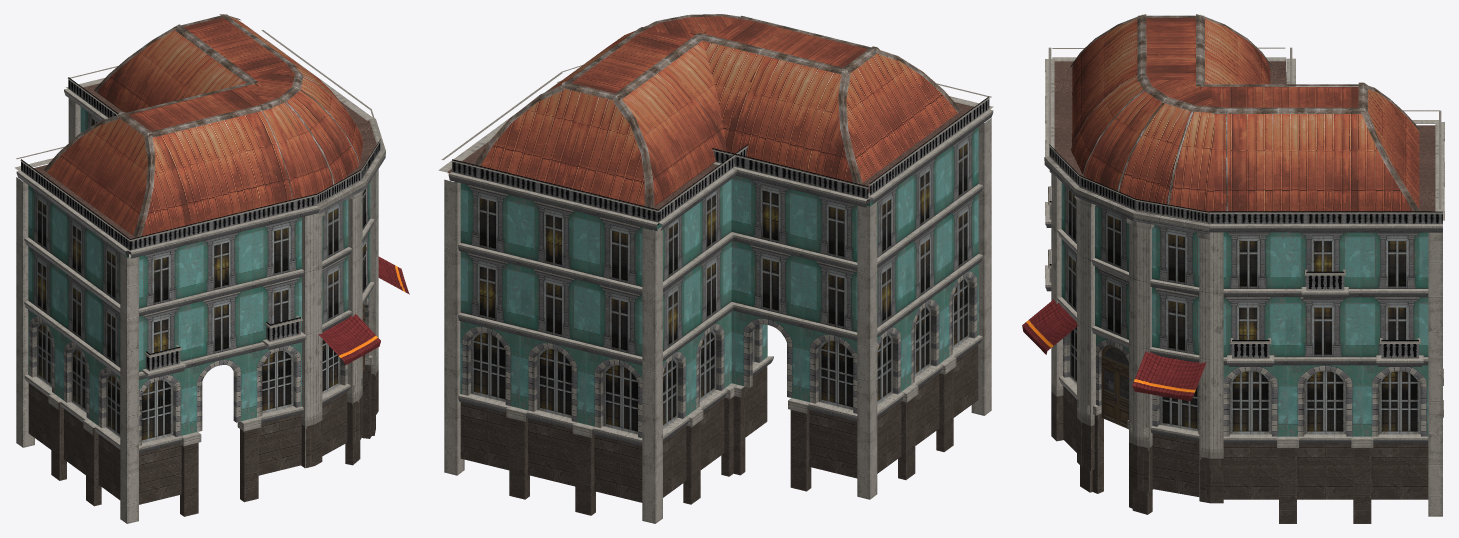
Rendered from tier2_city_corner.gltf.
3 renders of one model, left to right at view 1: azimuth 30°, elevation 25°; view 2: azimuth 150°, elevation 25°; view 3: azimuth 270°, elevation 25°, orthographic. The views are drawn at different scales.
Visible parts, largest first — view 1: ground-wall.001; view 2: ground-wall.001; view 3: ground-wall.001.
Boxes of the visible parts, box(x1,y1,x2,y2) form: ground-wall.001: box(15, 14, 409, 523); ground-wall.001: box(438, 14, 993, 523); ground-wall.001: box(1022, 14, 1444, 523).
Bounding box in the file's own units: 2.65 × 2.62 × 2.65.
1 material, 1 textured.
